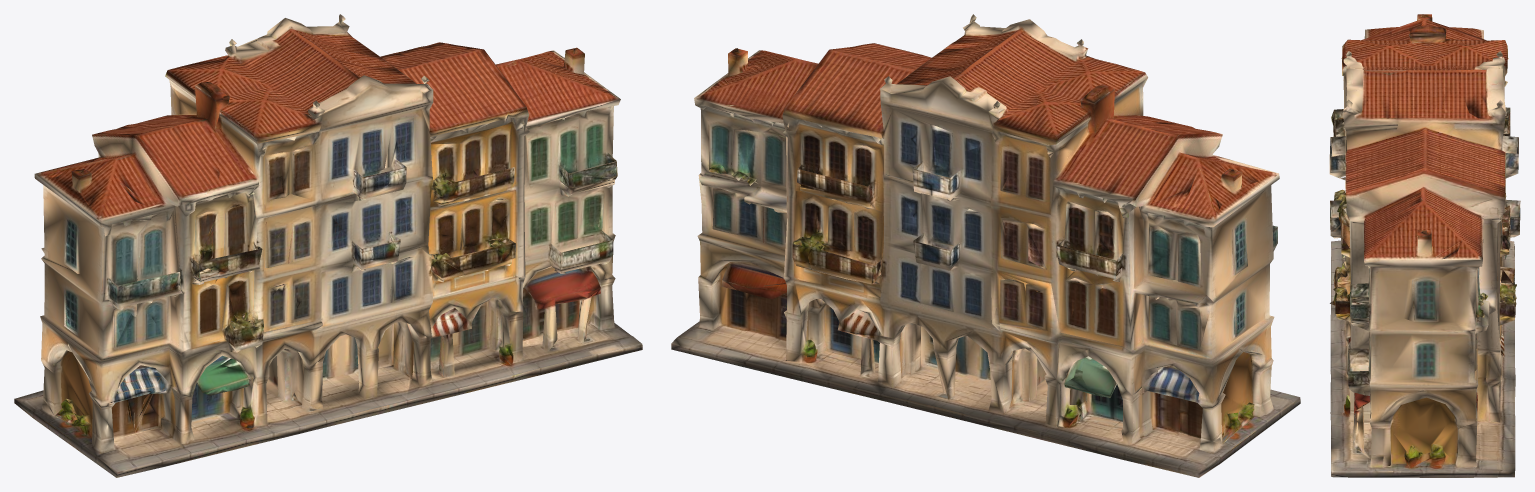
Rendered from city_izmir_konak_facades.glb.
3 views of the same model, side by side, from view 1: azimuth 30°, elevation 25°; view 2: azimuth 150°, elevation 25°; view 3: azimuth 270°, elevation 25° (orthographic). The views are drawn at different scales.
Visible parts, largest first — view 1: Mesh1.0; view 2: Mesh1.0; view 3: Mesh1.0.
Boxes of the visible parts, x1,y1,x2,y2 form: Mesh1.0: [14, 14, 642, 477]; Mesh1.0: [671, 14, 1300, 477]; Mesh1.0: [1329, 14, 1520, 477].
Bounding box in the file's own units: 21.99 × 13 × 7.66.
1 material, 1 textured.
